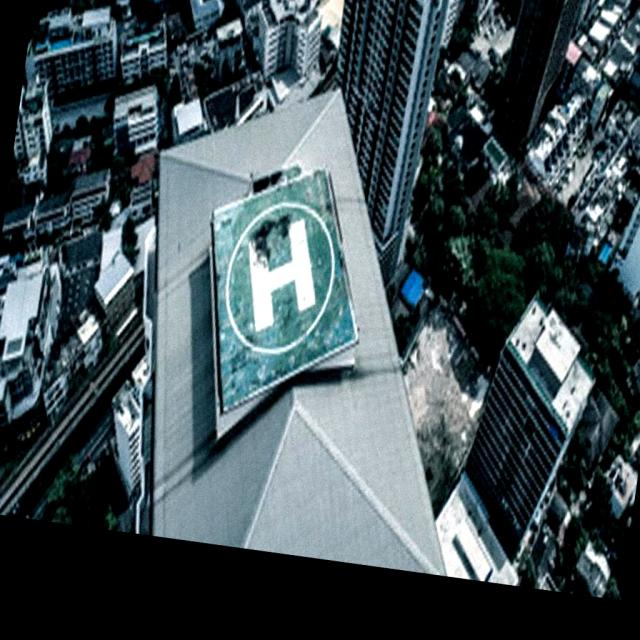helipad: (222, 197, 337, 357)
